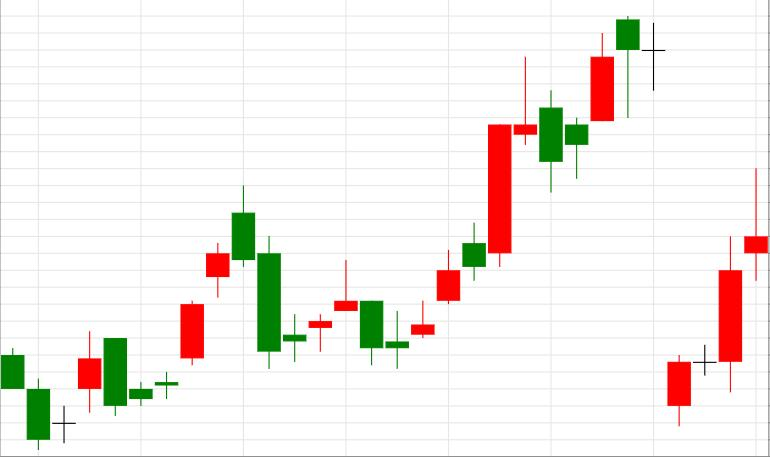hanging_man_fall: (411, 15, 639, 339)
